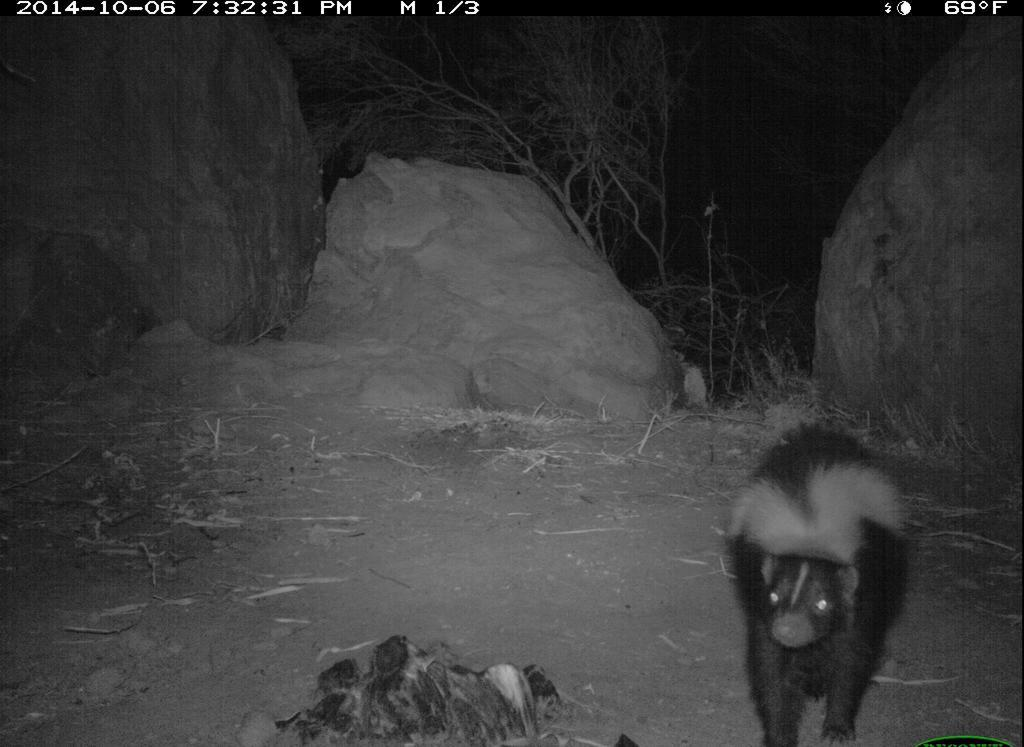skunk: (719, 413, 917, 747)
